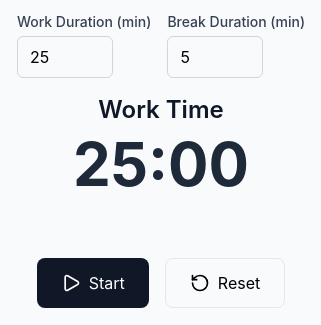
Test: PomodoroTimer › switches to break time and plays a notification when work ends
Replace the text in the number field labelled "Work Duration (min)" with "1" at coordinates (65, 57), box 17,36 -> 113,78
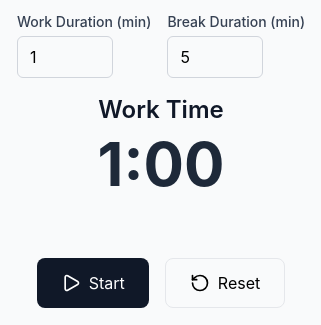
Replace the text in the number field labelled "Break Duration (min)" with "2" at coordinates (215, 57), box 167,36 -> 263,78
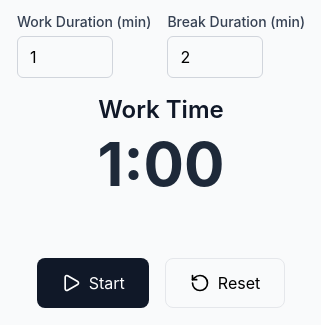
Click the button "Start" at coordinates (93, 283), box 37,258 -> 149,308
Wait 60000 ms
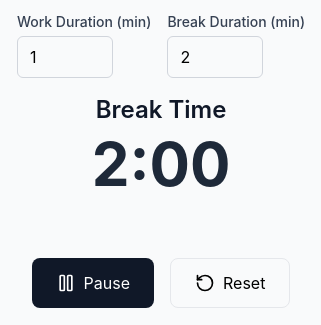
Result: the heading "Break Time" is shown at 92,94 -> 230,126
Result: the text "2:00" is shown at 92,134 -> 230,194
